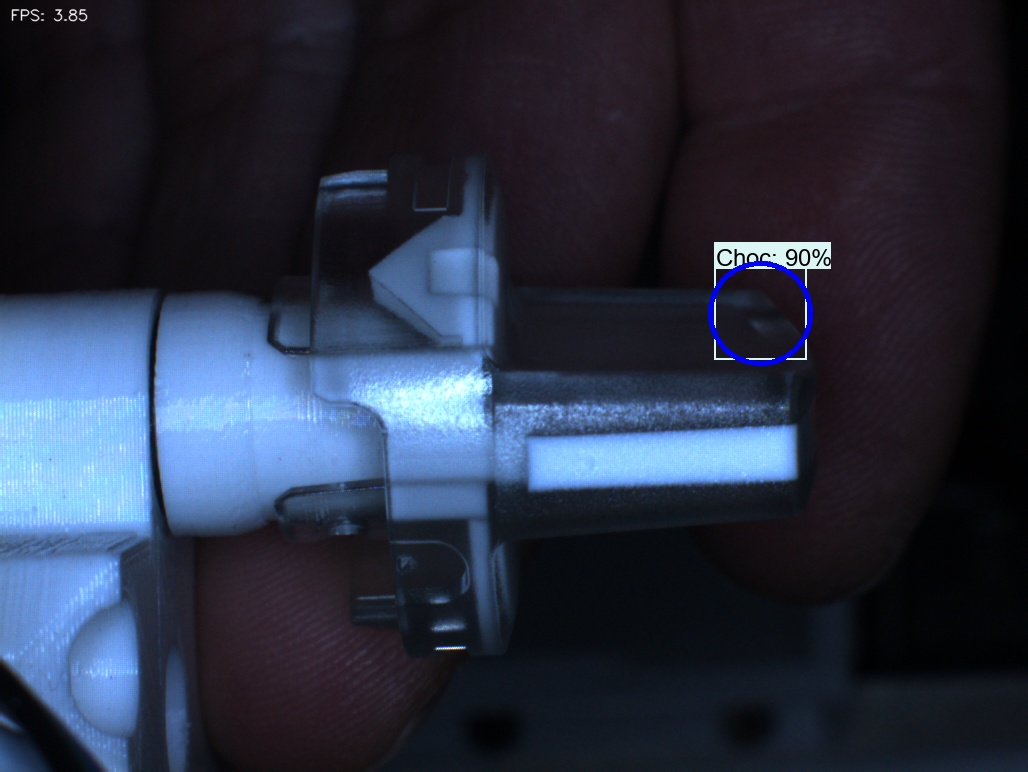DentOk: (334, 236, 413, 331)
